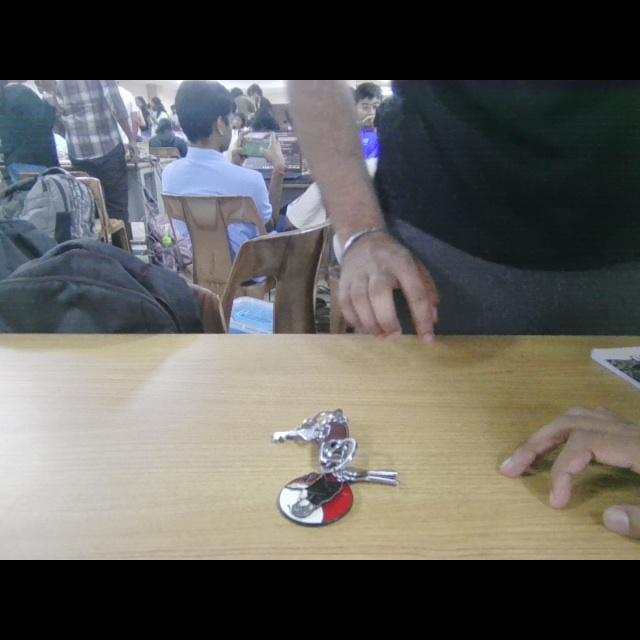keys: (258, 400, 398, 544)
